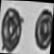correct: (32, 9, 54, 53)
not correct: (0, 11, 29, 54)
